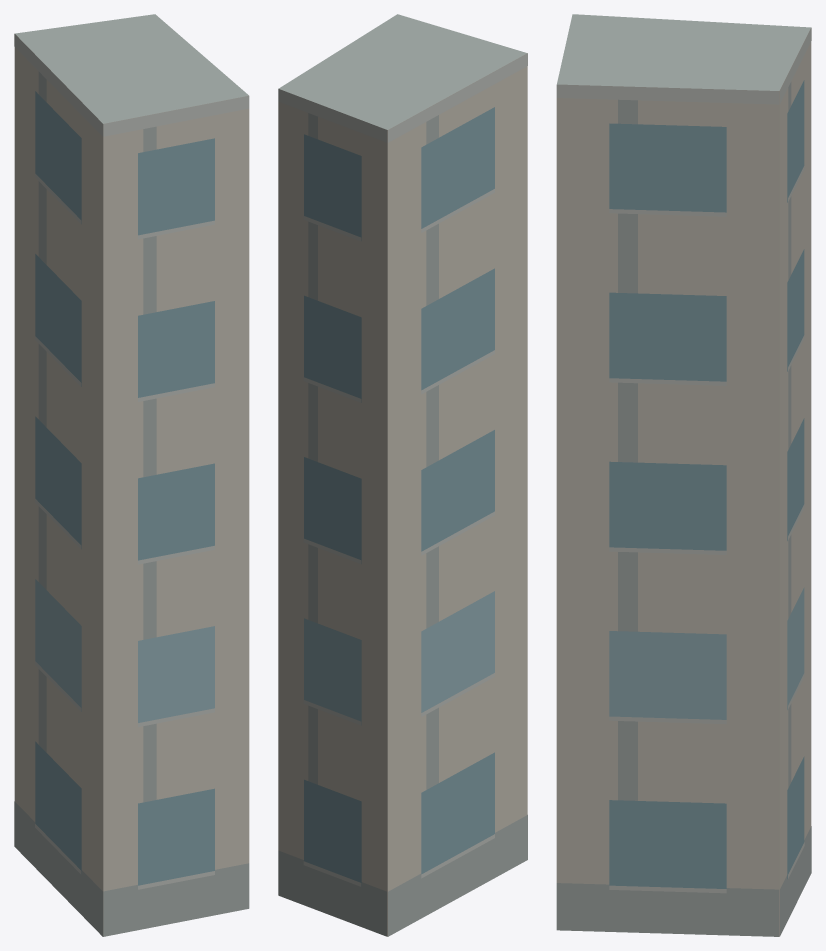
File: survey-upis-32680373.glb
3 views of the same model, side by side, from view 1: azimuth 30°, elevation 25°; view 2: azimuth 150°, elevation 25°; view 3: azimuth 270°, elevation 25° (orthographic). The views are drawn at different scales.
Visible parts, largest first — view 1: survey-upis-32680373.tmp; view 2: survey-upis-32680373.tmp; view 3: survey-upis-32680373.tmp.
Boxes of the visible parts, x1,y1,x2,y2 form: survey-upis-32680373.tmp: (14, 14, 249, 936); survey-upis-32680373.tmp: (278, 14, 527, 936); survey-upis-32680373.tmp: (556, 14, 811, 936).
Bounding box in the file's own units: 2.99 × 15.25 × 4.17.
